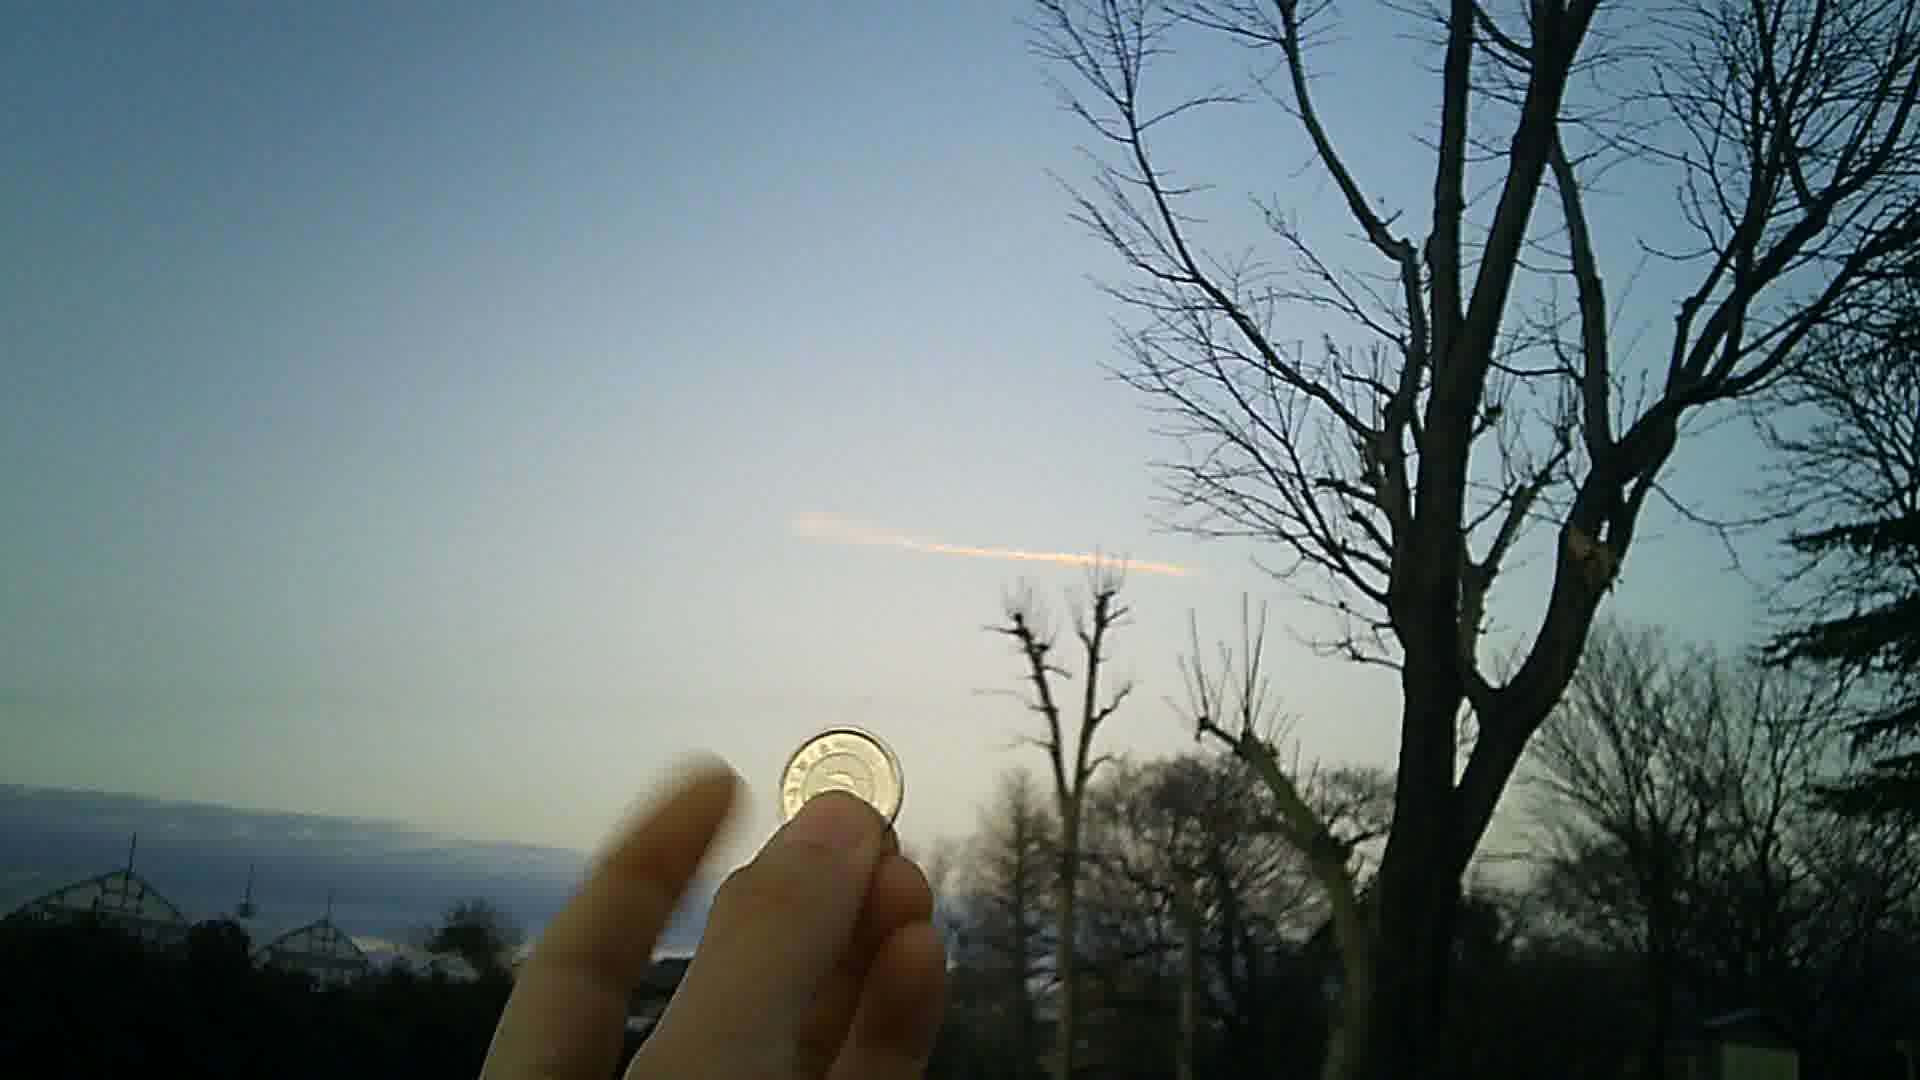1 Yen: (771, 719, 914, 841)
